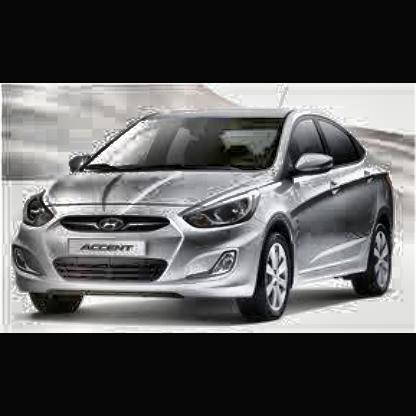Hyundai Accent Sedan 2012: (11, 107, 399, 321)
